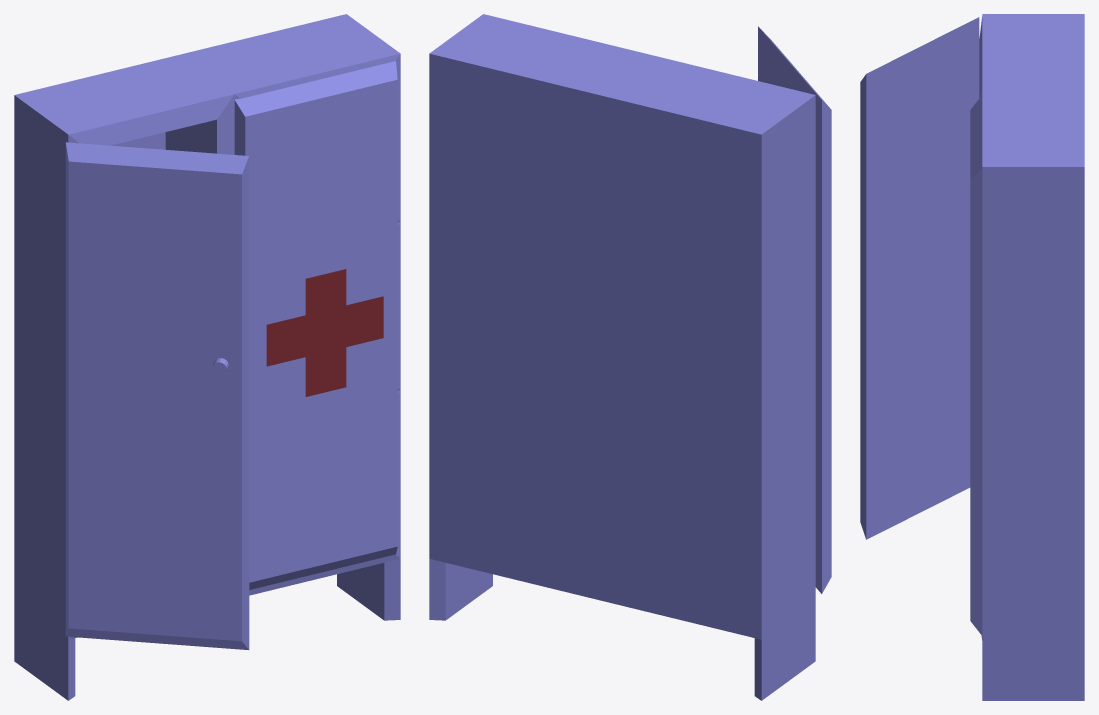
File: Arzneischrank.fbx
3 views of the same model, side by side, from view 1: azimuth 30°, elevation 25°; view 2: azimuth 150°, elevation 25°; view 3: azimuth 270°, elevation 25° (orthographic). The views are drawn at different scales.
Visible parts, largest first — view 1: Cube.009, Cube.007, Cube.006; view 2: Cube.006, Cube.009; view 3: Cube.006, Cube.009, Cube.007.
Boxes of the visible parts, <box> form: Cube.009: <box>65,142,249,649</box>; Cube.007: <box>234,61,397,589</box>; Cube.006: <box>14,14,400,700</box>; Cube.006: <box>429,14,815,700</box>; Cube.009: <box>758,26,831,593</box>; Cube.006: <box>979,14,1084,700</box>; Cube.009: <box>860,17,979,539</box>; Cube.007: <box>970,95,981,634</box>.
Bounding box in the file's own units: 329 × 524 × 199.
